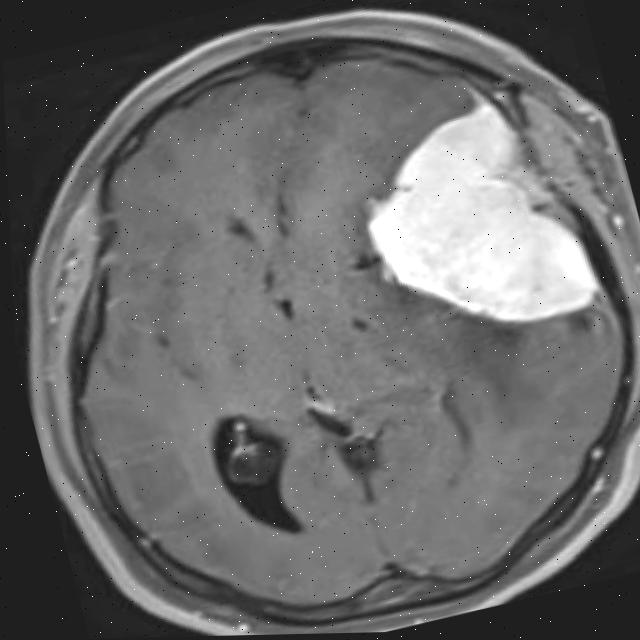Meningioma: (337, 69, 612, 357)
